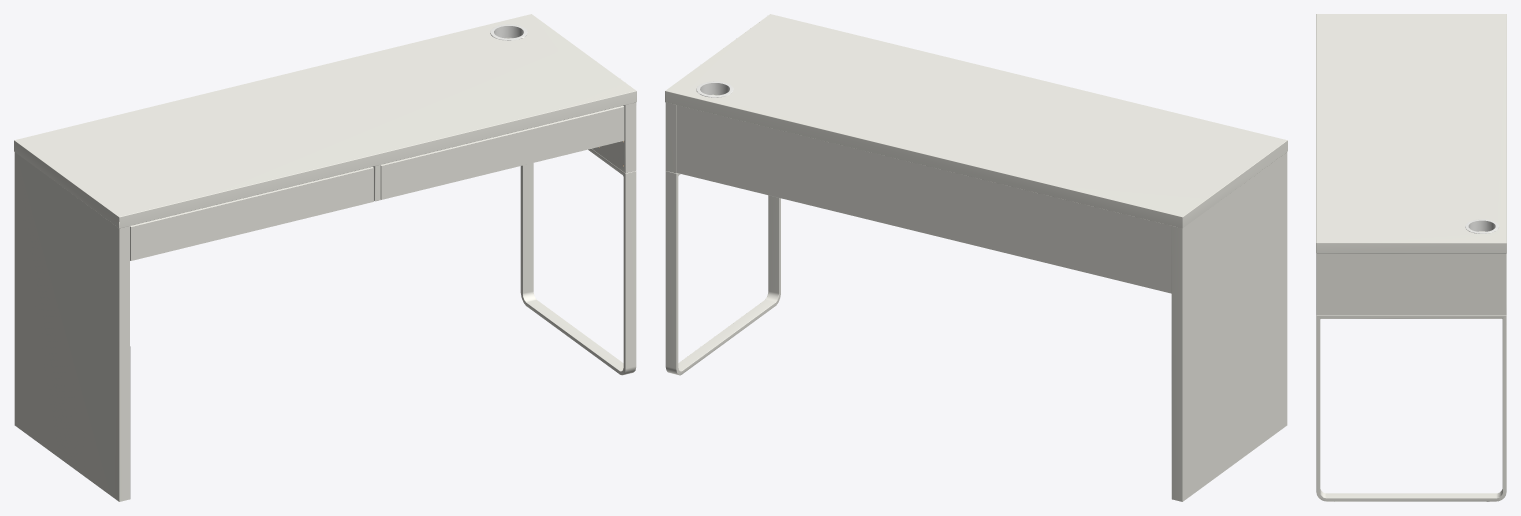
Rendered from 15 - MICKE Desk - white 142x50 cm.glb.
3 renders of one model, left to right at view 1: azimuth 30°, elevation 25°; view 2: azimuth 150°, elevation 25°; view 3: azimuth 270°, elevation 25°, orthographic. The views are drawn at different scales.
Visible parts, largest first — view 1: Mesh_0; view 2: Mesh_0; view 3: Mesh_0.
Part boxes in pixels (<box>): Mesh_0: <box>14,14,636,501</box>; Mesh_0: <box>665,14,1287,501</box>; Mesh_0: <box>1316,14,1506,501</box>.
Size of the model in its own units: 1.42 by 0.7525 by 0.5.
1 material, 1 textured.
